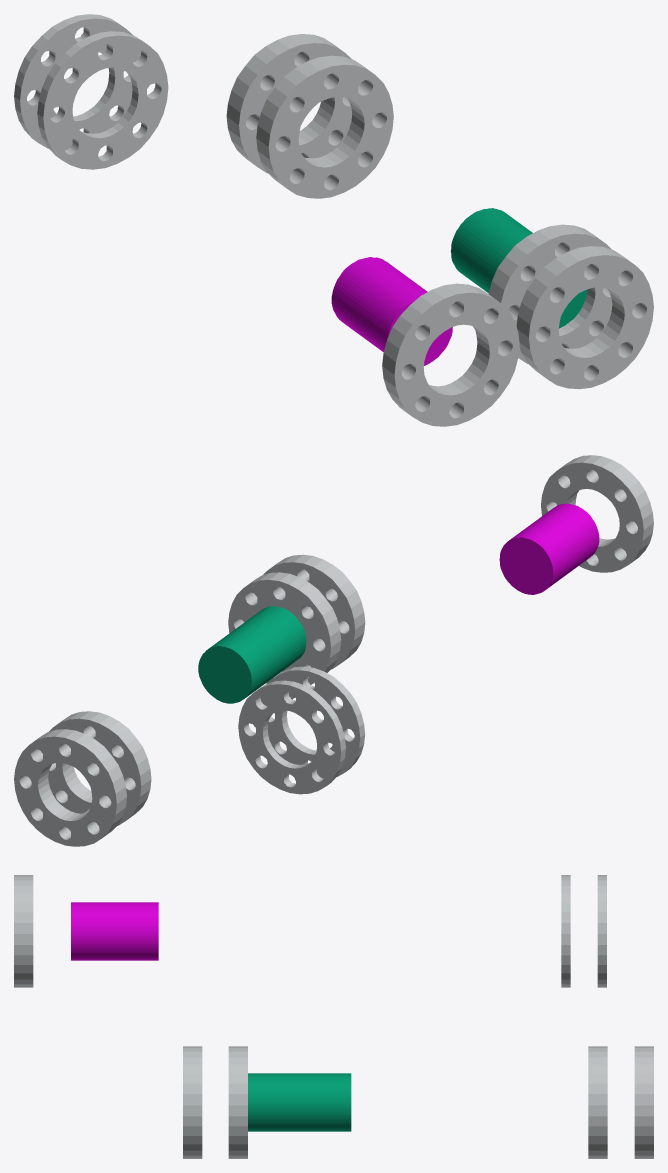
The picture shows the model from 3 angles, top to bottom: view 1: azimuth 30°, elevation 25°; view 2: azimuth 150°, elevation 25°; view 3: azimuth 270°, elevation 25°; orthographic projection. The views are drawn at different scales.
Size of the model in its own units: 0.6476 by 0.3905 by 1.25.
